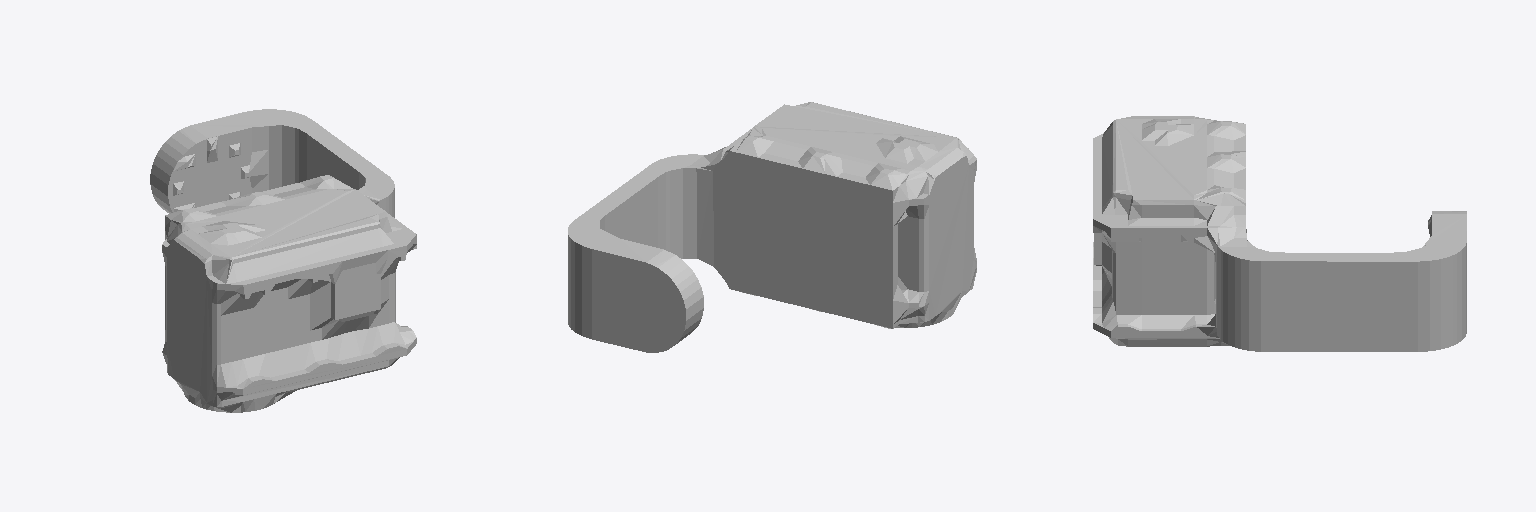
File: neck.stl.obj
3 renders of one model, left to right at view 1: azimuth 30°, elevation 25°; view 2: azimuth 150°, elevation 25°; view 3: azimuth 270°, elevation 25°, orthographic.
Visible parts, largest first — view 1: <STL_BINARY>; view 2: <STL_BINARY>; view 3: <STL_BINARY>.
Boxes of the visible parts, x1,y1,x2,y2 form: <STL_BINARY>: [150, 109, 416, 412]; <STL_BINARY>: [568, 102, 976, 352]; <STL_BINARY>: [1093, 116, 1466, 351].
Bounding box in the file's own units: 0.081 × 0.0553 × 0.1051.